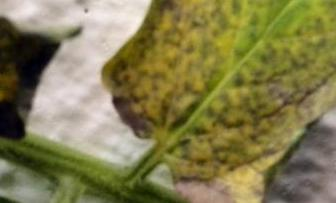Tomato leaf bacterial spot: (103, 0, 336, 203)
